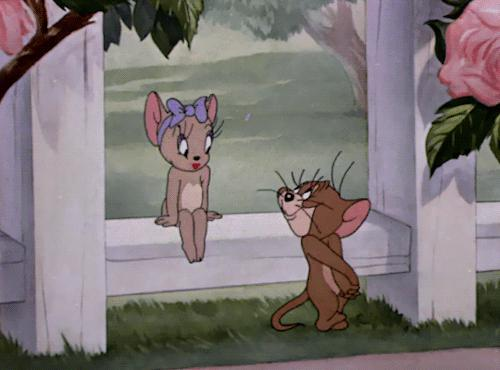jerry: (255, 158, 372, 334)
